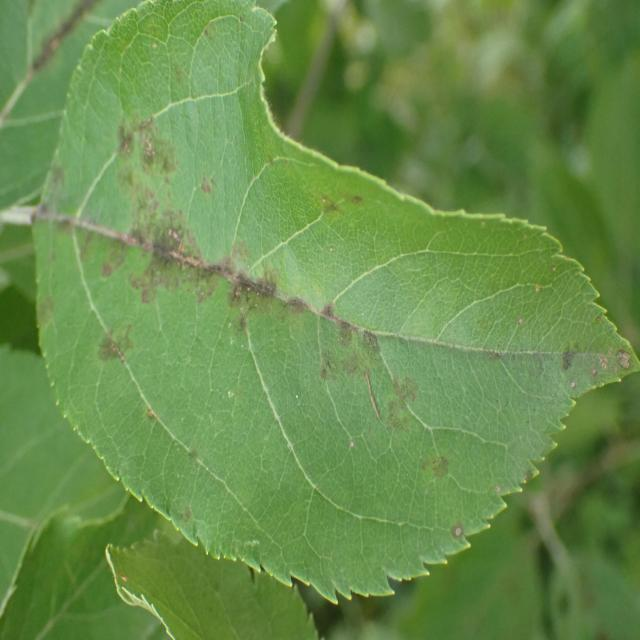scab: (28, 64, 630, 509)
